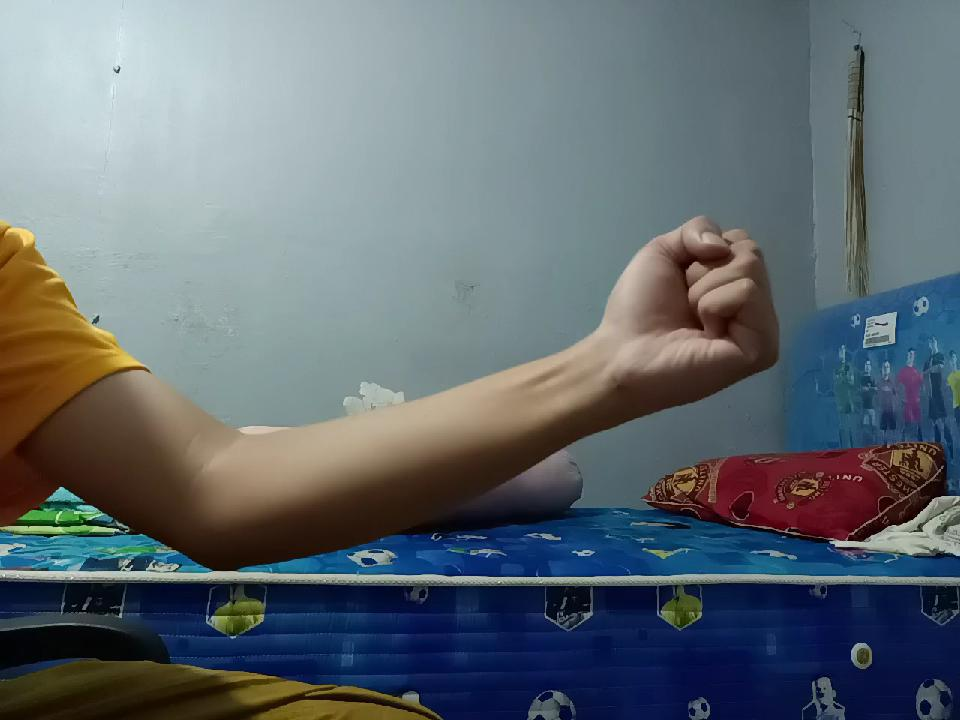rock: (599, 207, 784, 424)
